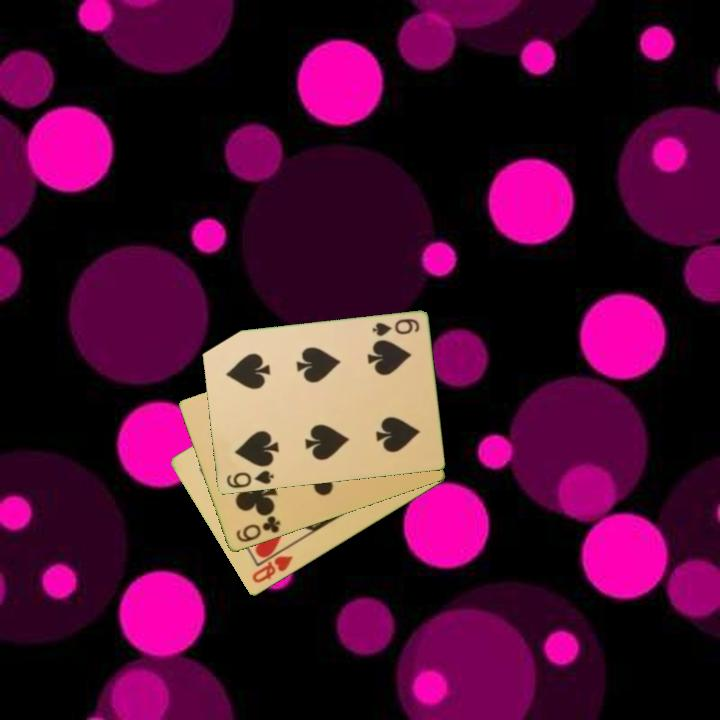6c: (232, 513, 283, 545)
6s: (368, 315, 422, 340), (223, 467, 277, 491)
Qh: (248, 552, 296, 586)
